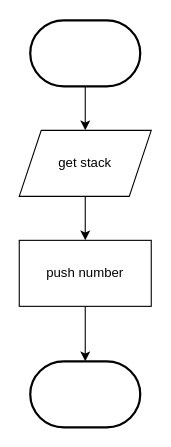
Image size: 171x447. Some labels were removed from this diagram. The centre of each missing label's shape, as x and y in pixels:
"start" belongs at [85,53].
"stoppp" belongs at [85,394].
